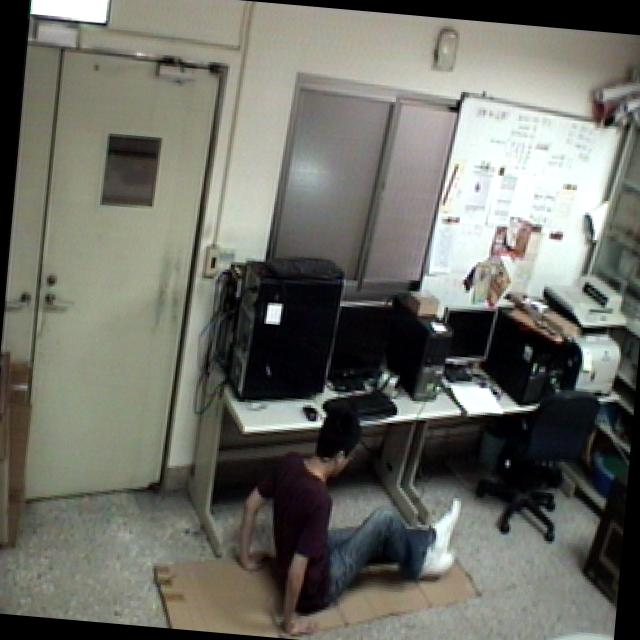sit: (220, 379, 475, 640)
